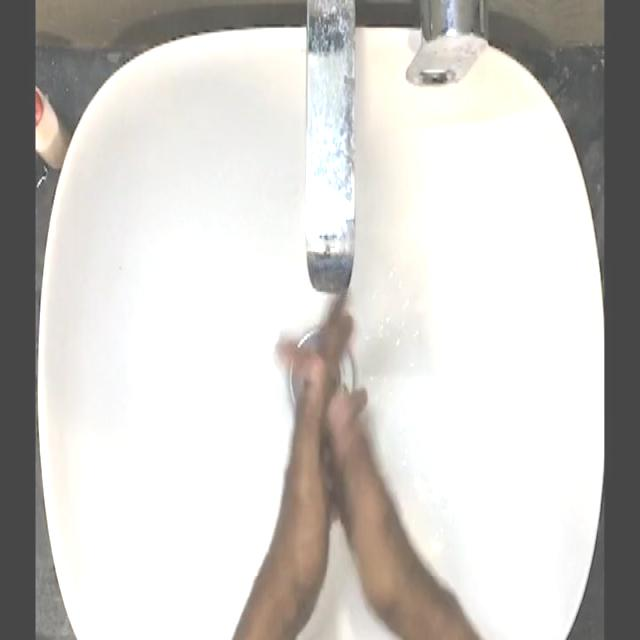step_3: (256, 273, 392, 595)
